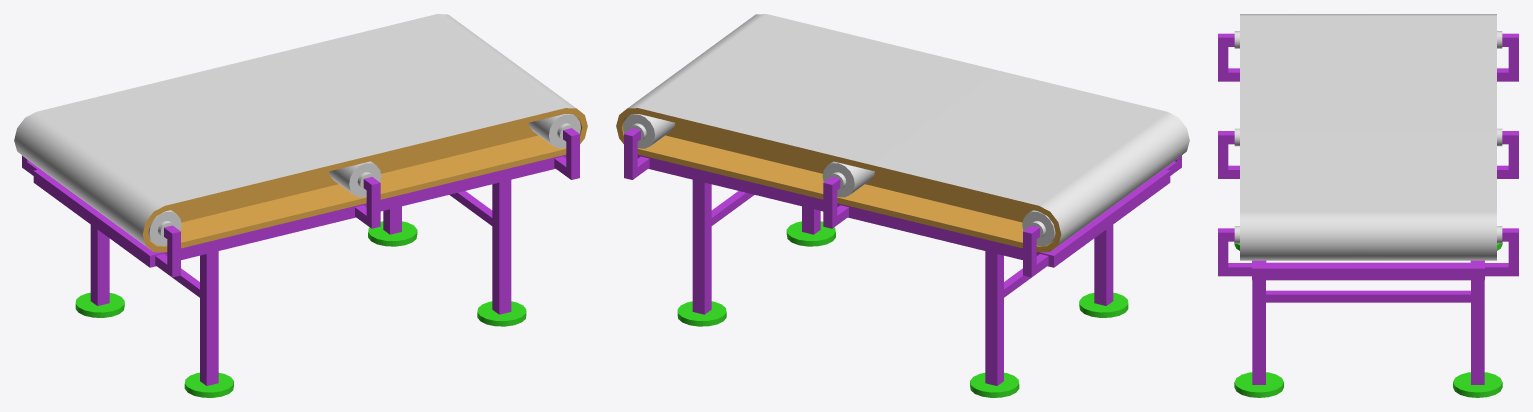
File: mesh_conveyorBelt01.fbx
3 views of the same model, side by side, from view 1: azimuth 30°, elevation 25°; view 2: azimuth 150°, elevation 25°; view 3: azimuth 270°, elevation 25° (orthographic).
Parts seen in each view (by area): view 1: mesh_conveyorBelt01; view 2: mesh_conveyorBelt01; view 3: mesh_conveyorBelt01.
Boxes of the visible parts, left/top/right/bottom form: mesh_conveyorBelt01: left=14, top=14, right=587, bottom=397; mesh_conveyorBelt01: left=616, top=14, right=1189, bottom=397; mesh_conveyorBelt01: left=1218, top=14, right=1518, bottom=397.
Bounding box in the file's own units: 200 × 86.71 × 117.
